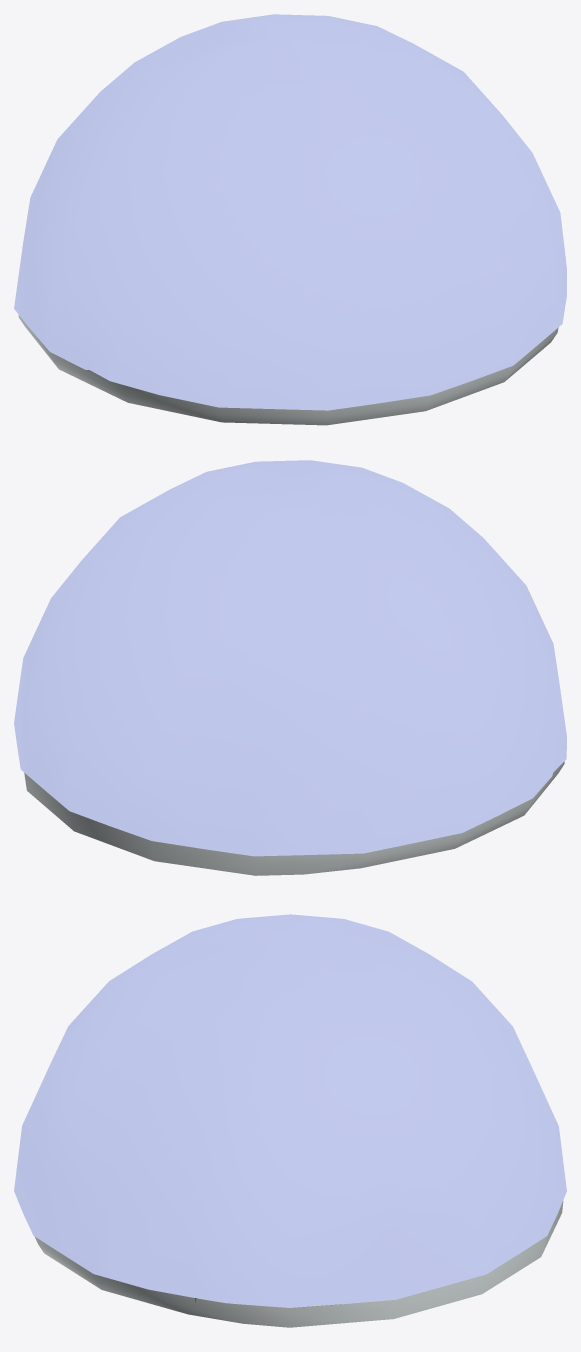
The model's file is pisa1_background.dae.
3 views of the same model, one above another, from view 1: azimuth 30°, elevation 25°; view 2: azimuth 150°, elevation 25°; view 3: azimuth 270°, elevation 25° (orthographic).
Parts seen in each view (by area): view 1: sky, pCylinder44; view 2: sky, pCylinder44; view 3: sky, pCylinder44.
Part boxes in pixels (x1,y1,x2,y2): sky: (14, 14, 566, 410); pCylinder44: (18, 315, 558, 425); sky: (14, 460, 566, 856); pCylinder44: (24, 761, 564, 875); sky: (14, 914, 566, 1307); pCylinder44: (34, 1201, 563, 1327).
Size of the model in its own units: 87.91 by 49.8 by 87.91.
